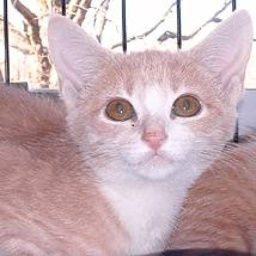cat: (0, 12, 250, 256)
